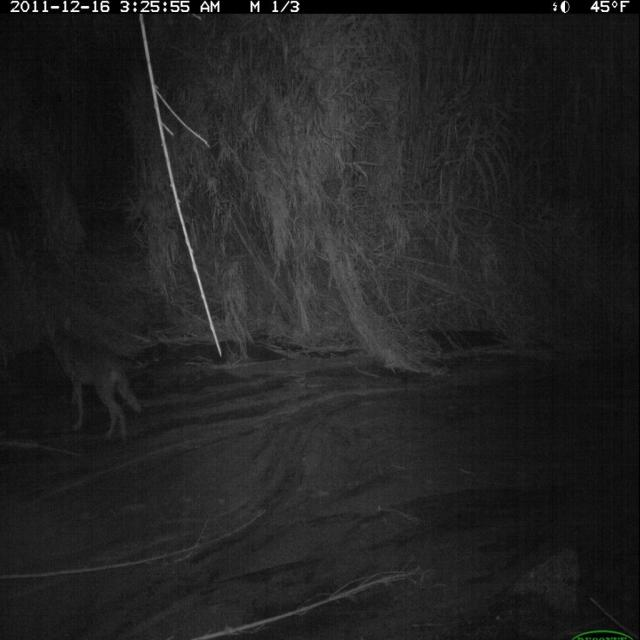coyote: (39, 303, 153, 449)
